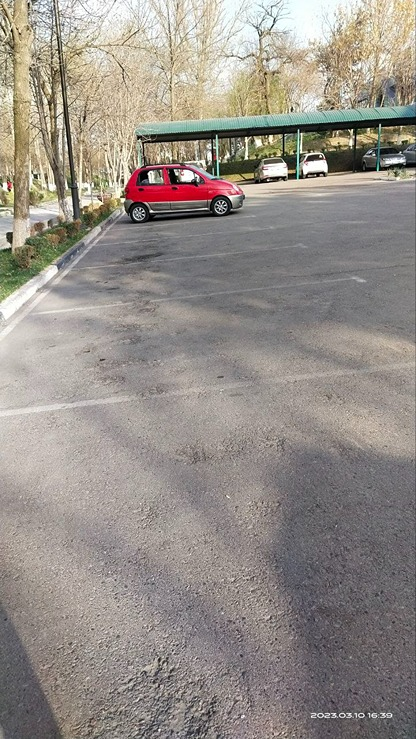car: (117, 153, 247, 227), (255, 147, 297, 188), (302, 145, 333, 185), (362, 143, 404, 171)
tree: (0, 0, 63, 218), (229, 8, 320, 107), (354, 0, 416, 105)
